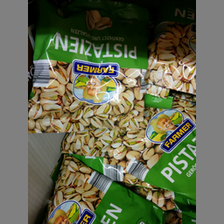nuts: (30, 5, 147, 131), (75, 106, 196, 197), (41, 156, 166, 224)
